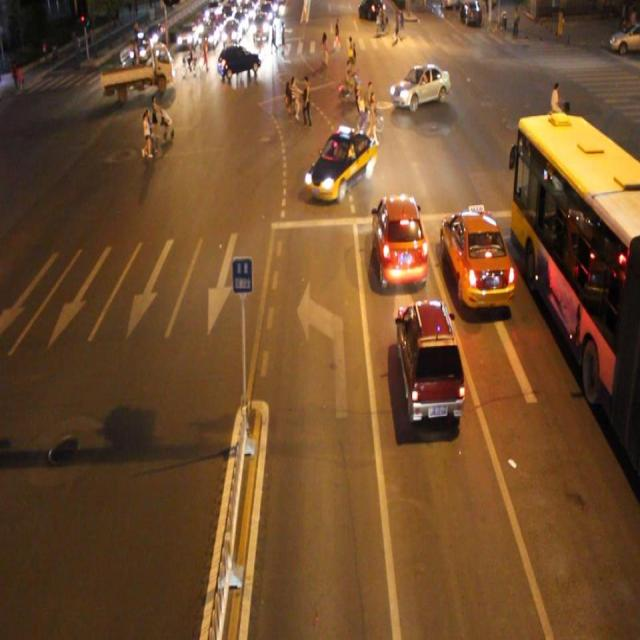bus: (100, 45, 174, 95)
car: (395, 297, 466, 422), (440, 204, 518, 308), (304, 126, 377, 200), (373, 192, 429, 288), (389, 63, 450, 110), (216, 45, 261, 79)
van: (511, 116, 640, 468)
